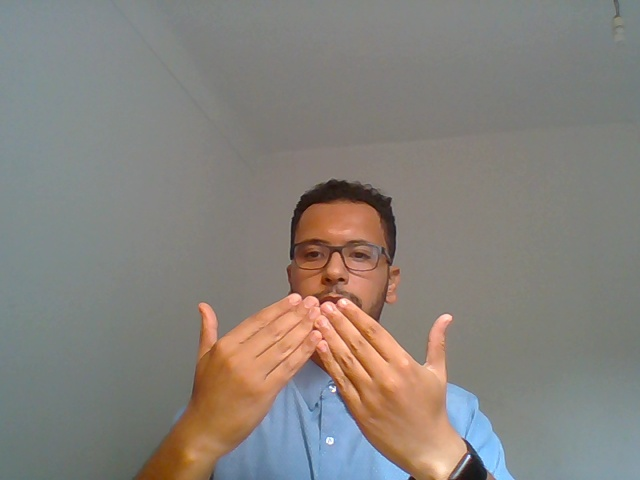thanks: (113, 273, 546, 480)
